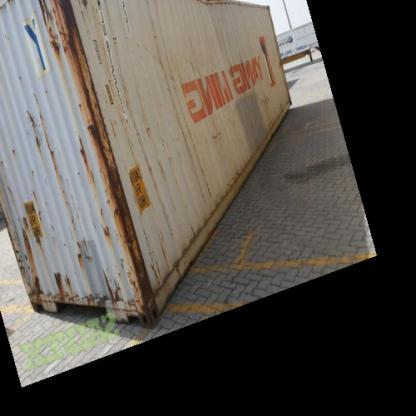Damage: (44, 11, 150, 309), (18, 104, 45, 144), (13, 218, 38, 260)
